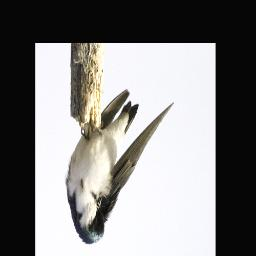Swallow: (64, 88, 174, 247)
